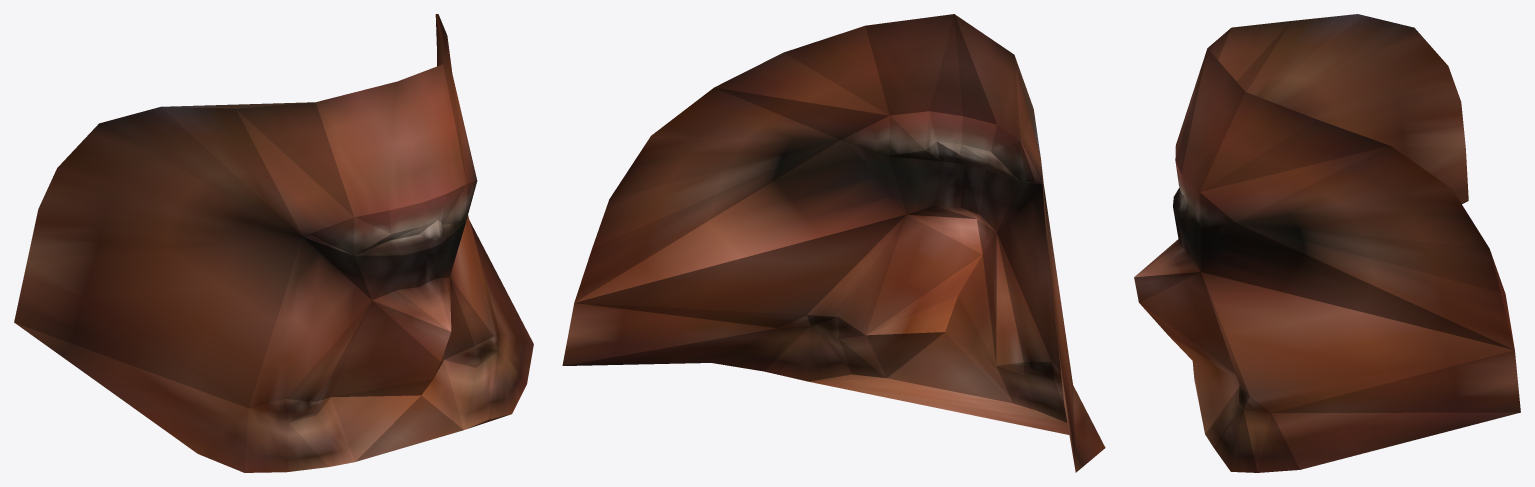
The model's file is real_340.obj.
3 views of the same model, side by side, from view 1: azimuth 30°, elevation 25°; view 2: azimuth 150°, elevation 25°; view 3: azimuth 270°, elevation 25° (orthographic). The views are drawn at different scales.
Bounding box in the file's own units: 113 × 87 × 83.96.
